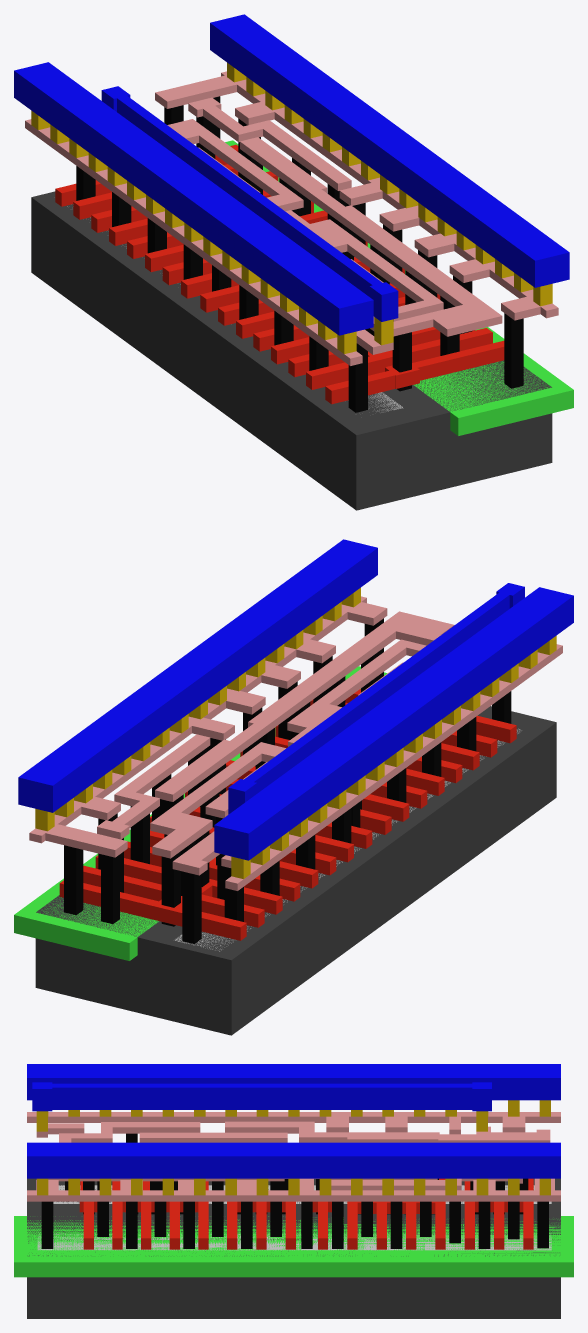
Rendered from sky130_fd_sc_hd__o211ai_4.obj.
The picture shows the model from 3 angles, top to bottom: view 1: azimuth 30°, elevation 25°; view 2: azimuth 150°, elevation 25°; view 3: azimuth 270°, elevation 25°; orthographic projection. The views are drawn at different scales.
Visible parts, largest first — view 1: metal1, subs, li, poly, licon, mcon, nwell; view 2: metal1, subs, li, poly, licon, mcon, nwell; view 3: metal1, subs, nwell, li, licon, poly, mcon, tap, diff.
Boxes of the visible parts, x1,y1,x2,y2 form: metal1: (14, 14, 569, 335); subs: (31, 191, 552, 510); li: (25, 71, 558, 365); poly: (55, 144, 504, 404); licon: (76, 96, 523, 412); mcon: (31, 62, 552, 353); nwell: (225, 140, 573, 435); metal1: (18, 539, 573, 860); subs: (35, 706, 556, 1035); li: (29, 596, 562, 890); poly: (59, 689, 516, 940); licon: (64, 618, 511, 943); mcon: (35, 587, 556, 878); nwell: (14, 666, 387, 960); metal1: (27, 1064, 560, 1178); subs: (27, 1178, 560, 1318); nwell: (14, 1216, 573, 1277); li: (27, 1112, 560, 1201); licon: (41, 1133, 548, 1248); poly: (79, 1178, 533, 1249); mcon: (36, 1100, 550, 1195); tap: (37, 1232, 551, 1250); diff: (53, 1185, 551, 1203).
Size of the model in its own units: 3.2 by 2.74 by 8.2.
